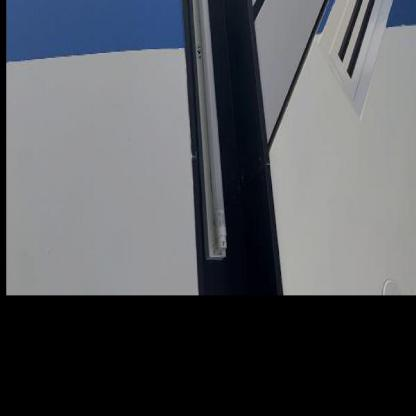light_off: (176, 0, 238, 266)
